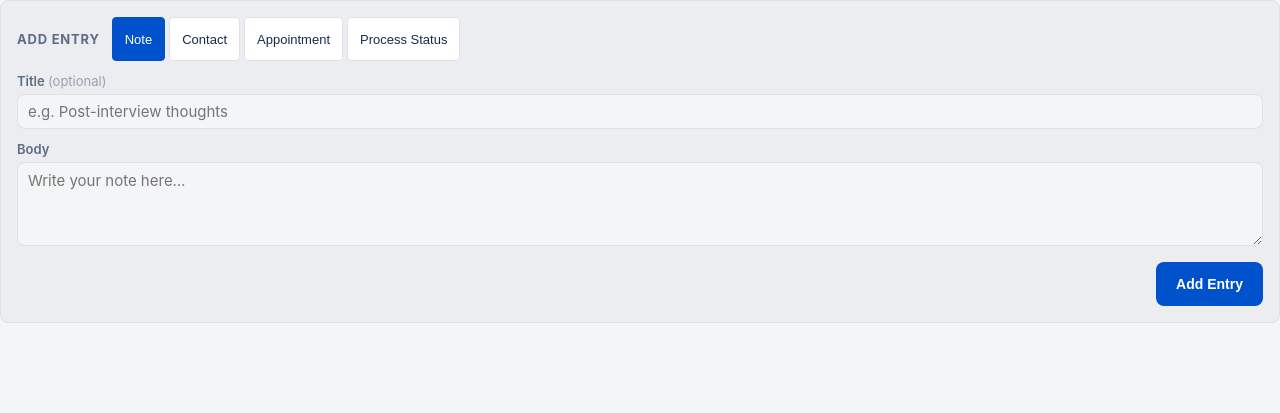
AddEntryForm › shows a validation error when submitting a contact without a name
The image size is (1280, 413).
Click the button "Contact": (205, 39) [169,17,240,61]
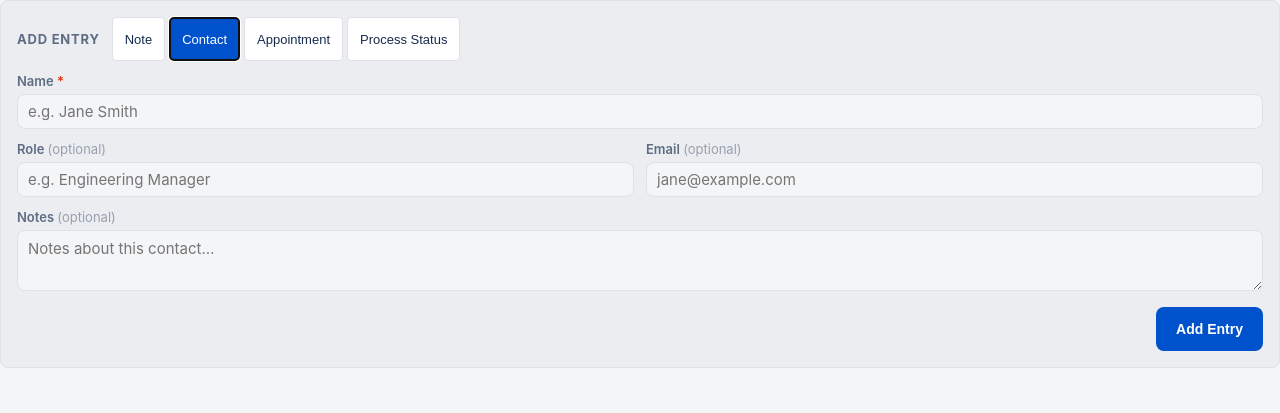
Click the button "Add Entry": (1210, 329) [1156,307,1263,351]
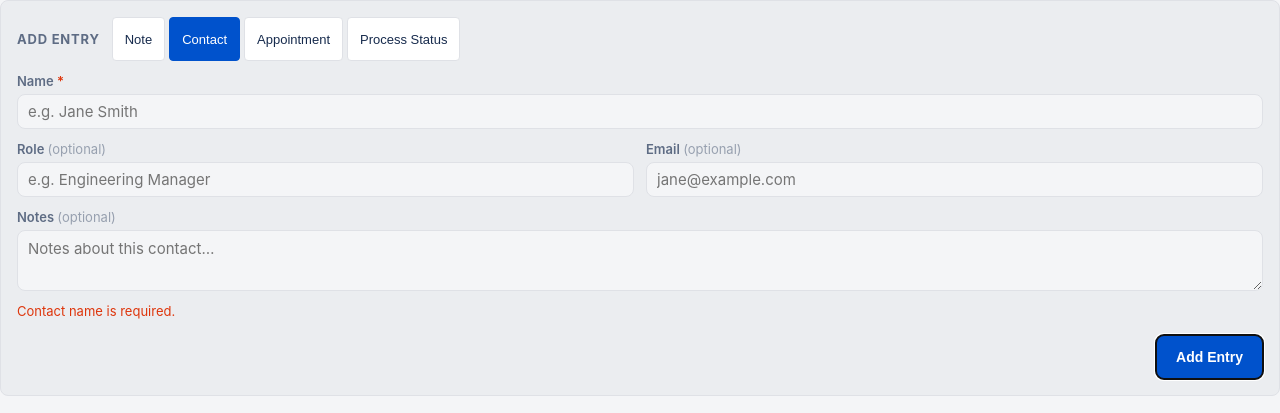
Result: the text "Contact name is required." is shown at [17,303,175,319]
